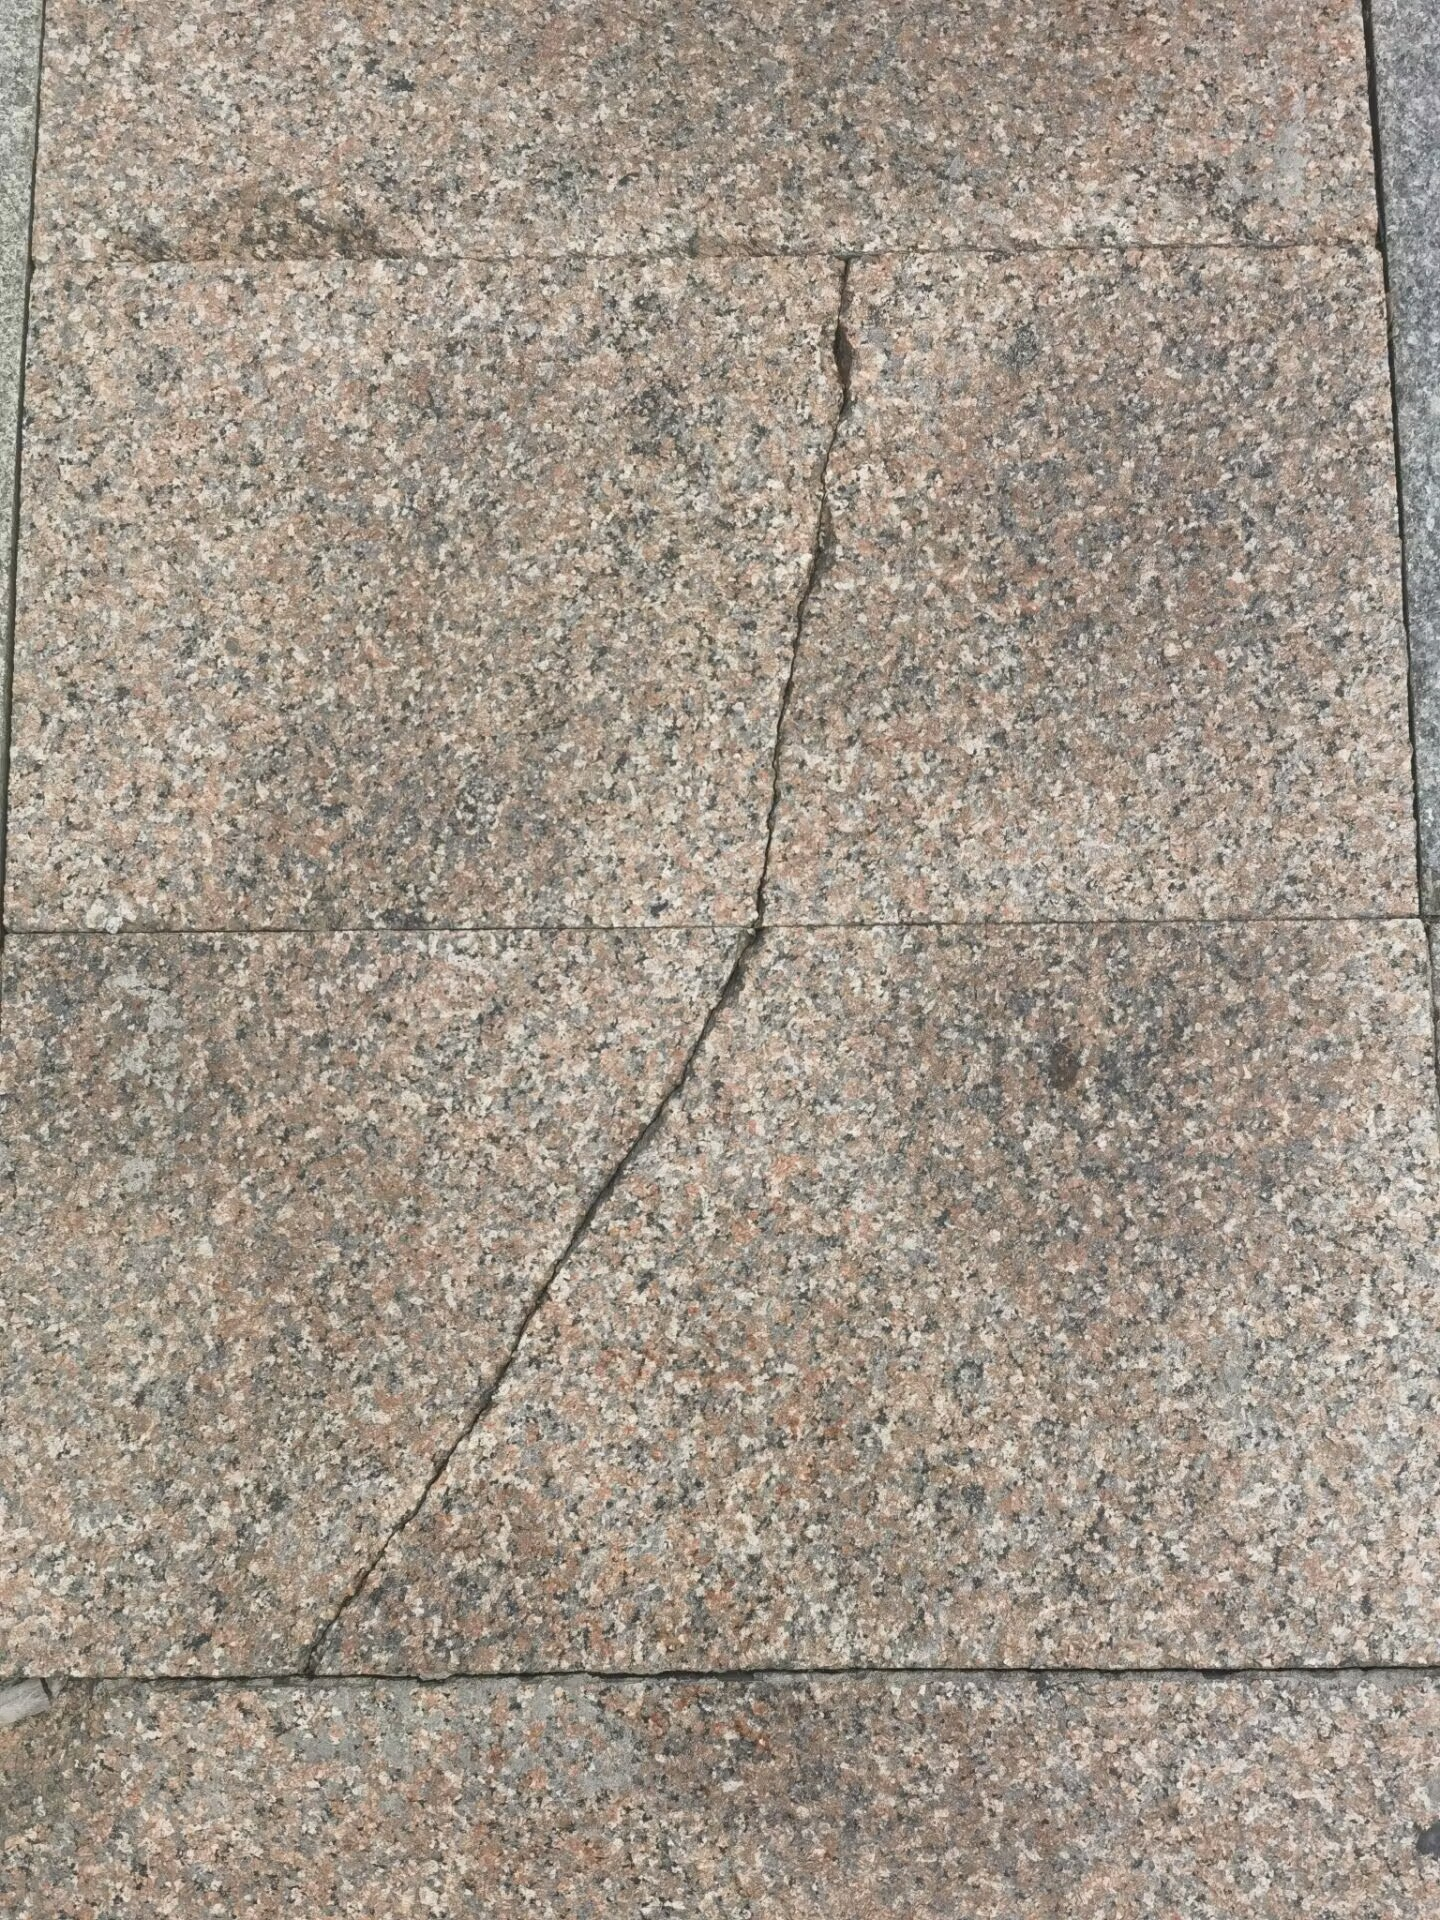TILE: (293, 255, 853, 1680)
